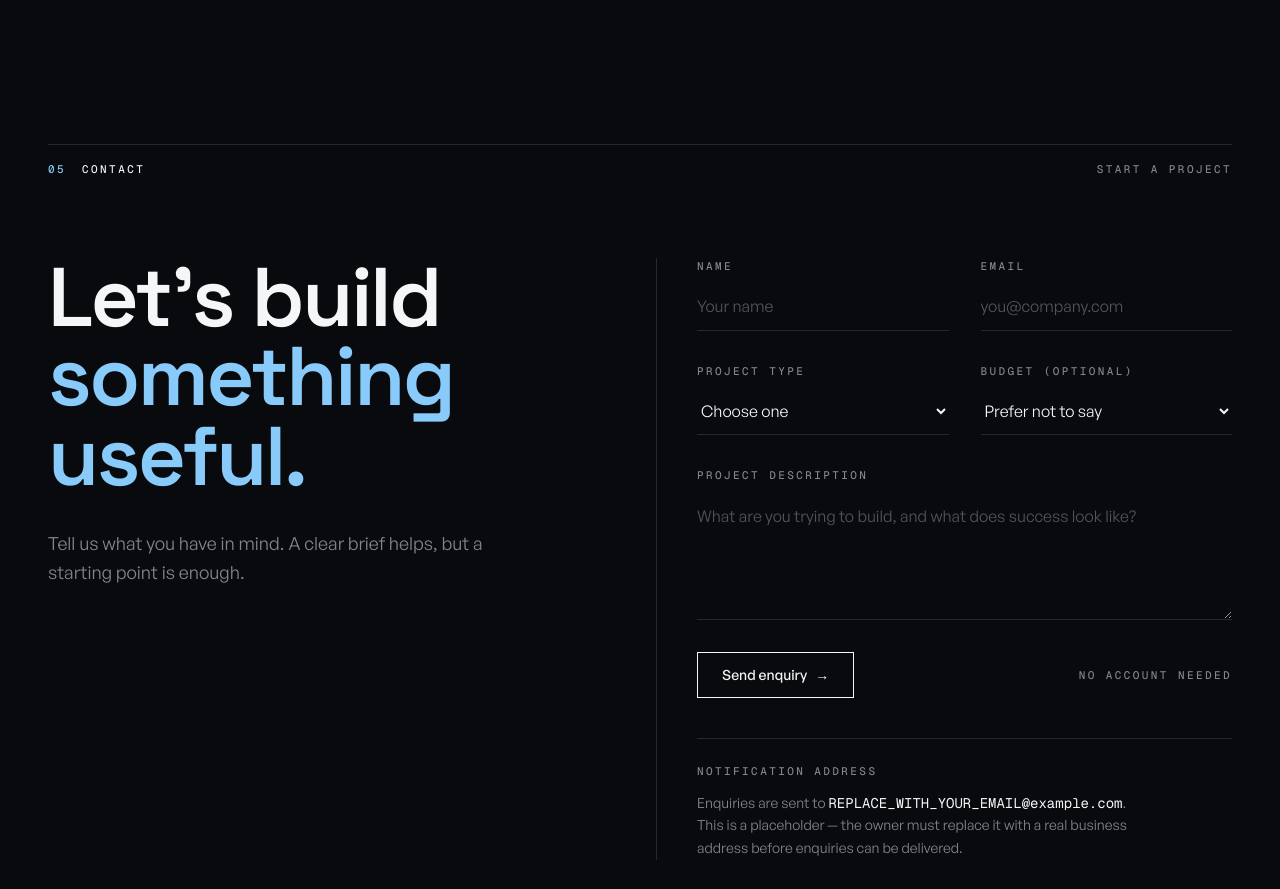
Test: ContactSection › shows inline errors and does not submit when required fields are empty
The image size is (1280, 889).
Click the button "Send enquiry →": (776, 675) x1=697 y1=652 x2=854 y2=698
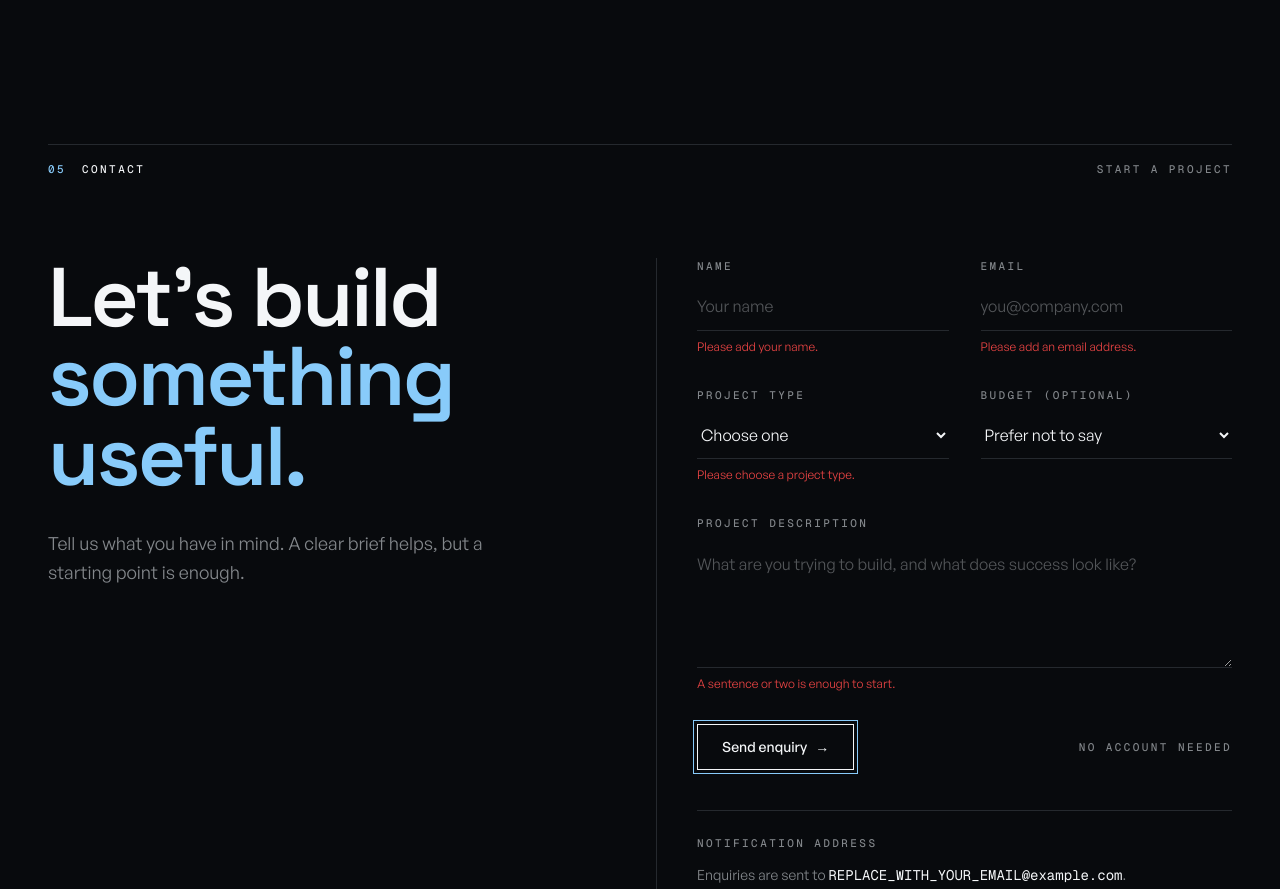
expect the text "Please add your name." is shown: met, box x1=697 y1=339 x2=818 y2=354
expect the text "Please add an email address." is shown: met, box x1=980 y1=339 x2=1136 y2=354
expect the text "Please choose a project type." is shown: met, box x1=697 y1=466 x2=855 y2=482
